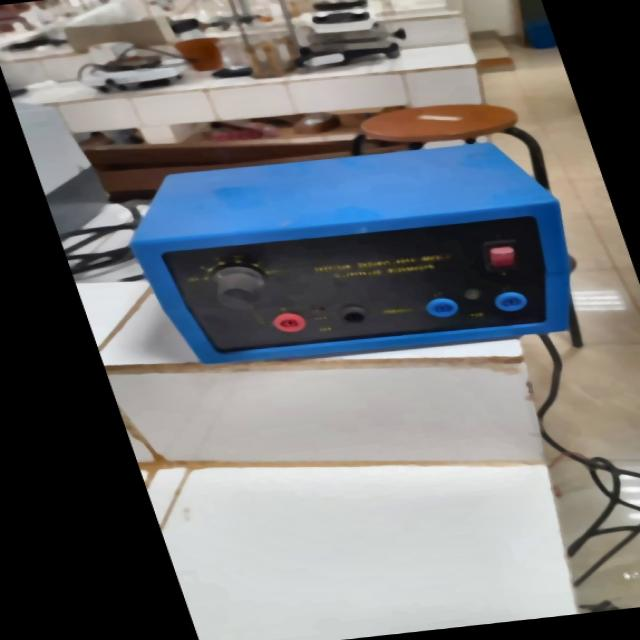Power Supply: (107, 129, 617, 384)
